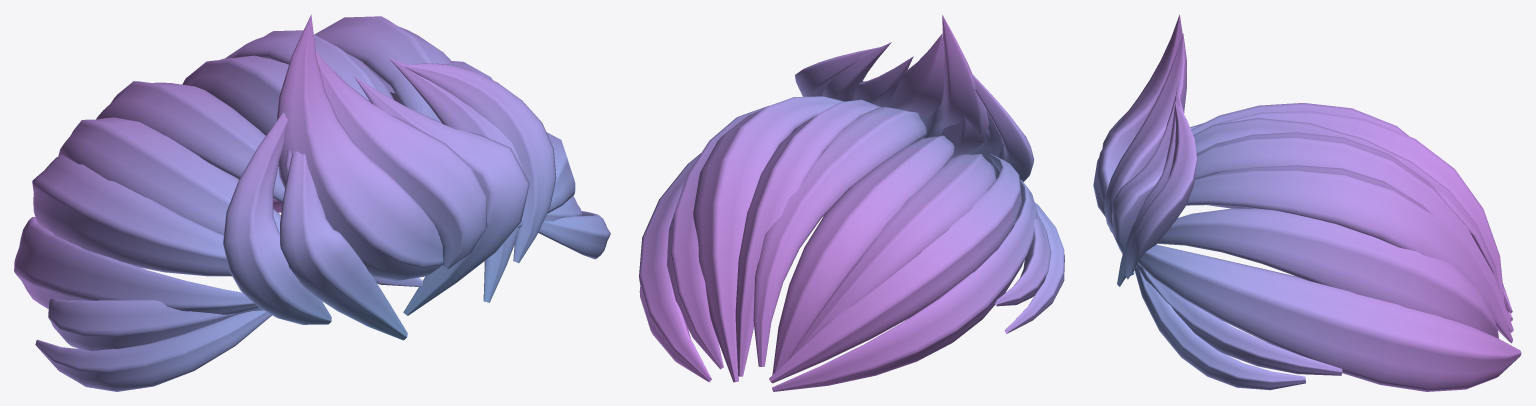
The model's file is hairc1.fbx.
3 views of the same model, side by side, from view 1: azimuth 30°, elevation 25°; view 2: azimuth 150°, elevation 25°; view 3: azimuth 270°, elevation 25° (orthographic). The views are drawn at different scales.
Parts seen in each view (by area): view 1: NurbsPath.030; view 2: NurbsPath.030; view 3: NurbsPath.030.
Boxes of the visible parts, bbox=[...] form: NurbsPath.030: bbox=[14, 14, 610, 391]; NurbsPath.030: bbox=[639, 15, 1064, 391]; NurbsPath.030: bbox=[1093, 14, 1521, 391].
Bounding box in the file's own units: 249 × 267 × 193.
